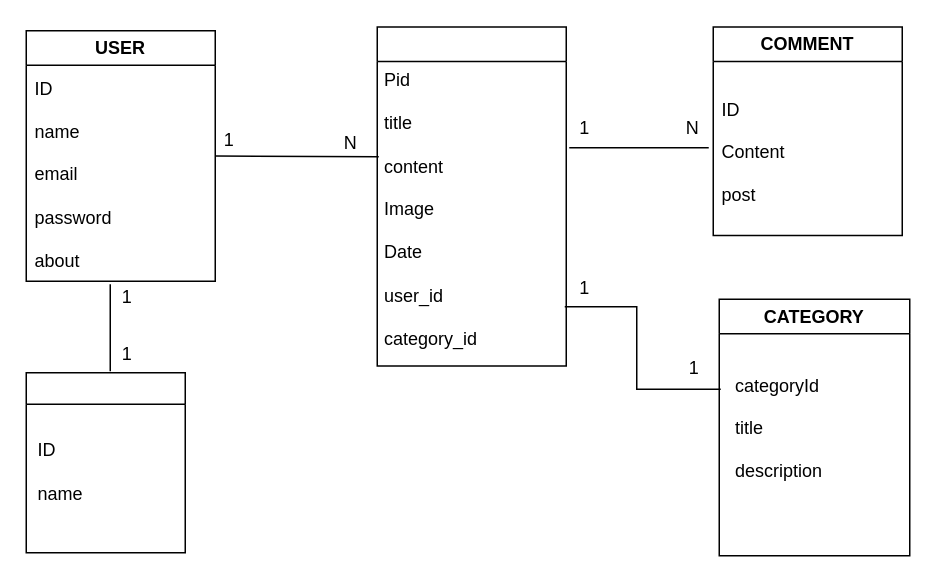
Image size: 936x582. Some labels were removed from this diagram. The box of each missing label's shape, as (x1, y1, x2, y2) in pixels:
POST: (376, 26, 566, 366)
ROLE: (25, 371, 185, 553)
